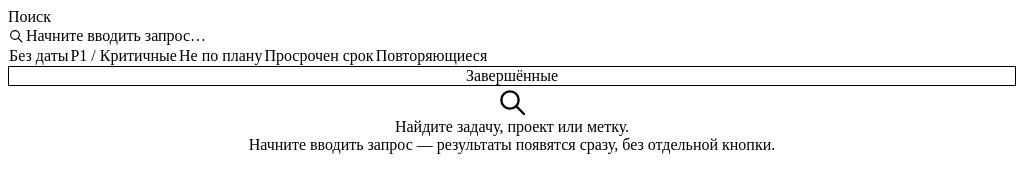
Test: Search — M35 Results, ранжирование (01§15) › находит и активные, и завершённые задачи; при равенстве уровня активная — раньше завершённой (01§15 п.7)
Type "одинаковая" into the field named "Поиск по задачам, проектам и меткам" at [520, 36], box [24, 26, 1016, 46]
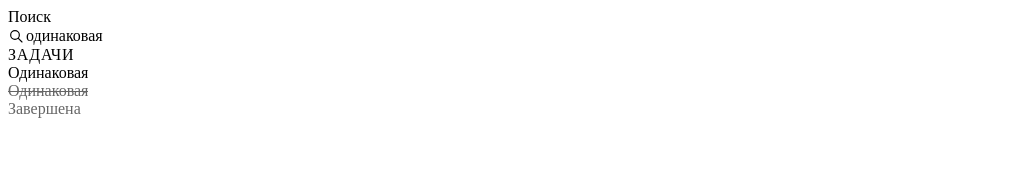
Now the text "Одинаковая" is shown 2 times, box [8, 64, 88, 82]; [8, 82, 88, 100]
